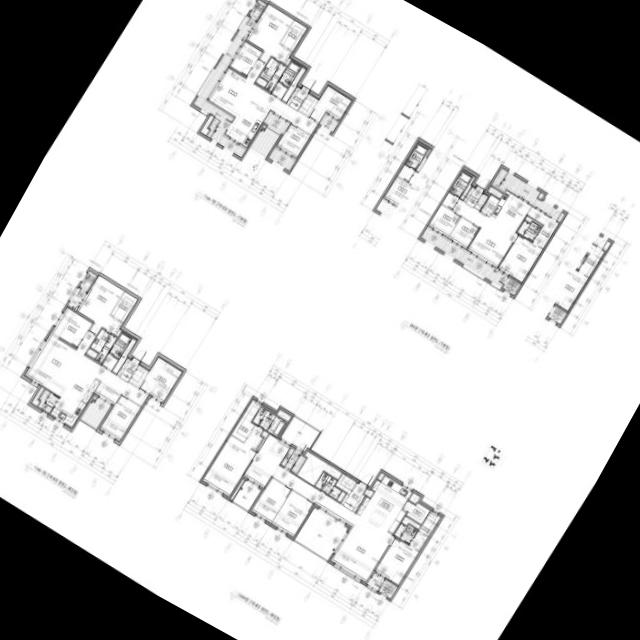background: (0, 0, 640, 640)
space_balconi: (193, 17, 255, 158), (421, 228, 508, 288), (492, 168, 565, 221), (295, 508, 348, 560), (281, 417, 319, 452), (80, 399, 110, 429), (250, 128, 279, 158), (233, 481, 261, 511), (281, 448, 306, 474), (268, 148, 295, 171), (38, 389, 59, 413), (265, 114, 287, 134), (68, 288, 86, 310), (366, 574, 384, 591), (320, 116, 338, 133)
space_bedroom: (203, 426, 263, 497), (246, 4, 294, 64), (77, 276, 124, 336), (375, 532, 428, 585), (498, 235, 542, 283), (139, 357, 183, 403), (272, 491, 313, 537), (100, 395, 141, 441), (252, 478, 291, 523), (52, 308, 92, 348), (309, 86, 352, 123), (277, 124, 311, 159), (229, 42, 261, 77), (429, 205, 460, 237), (449, 218, 479, 249)
space_dressroom: (527, 207, 558, 250), (231, 400, 261, 442), (280, 21, 307, 52), (111, 292, 138, 323), (419, 512, 440, 537)
space_front: (341, 483, 366, 512), (287, 87, 309, 111), (117, 359, 138, 383), (463, 187, 482, 208)
space_kitchen: (357, 476, 412, 534), (50, 369, 100, 427), (225, 98, 269, 147), (490, 191, 531, 233)
space_living_room: (244, 435, 394, 582), (25, 332, 149, 407), (206, 59, 318, 136), (453, 200, 517, 268)
space_other: (297, 452, 342, 486), (112, 339, 137, 374), (282, 68, 306, 103), (403, 502, 430, 525), (94, 382, 121, 405), (335, 474, 356, 495), (299, 94, 318, 116), (129, 366, 148, 387), (481, 195, 499, 216), (460, 177, 475, 200), (230, 479, 244, 501), (200, 115, 214, 136), (442, 193, 459, 210), (101, 354, 118, 371), (30, 387, 44, 407), (271, 83, 287, 100), (257, 431, 269, 451), (474, 194, 488, 210), (402, 517, 420, 529), (525, 217, 542, 227), (277, 410, 291, 422), (488, 187, 502, 199), (409, 493, 420, 504), (256, 77, 267, 88), (337, 492, 346, 503), (364, 489, 374, 498), (285, 58, 291, 66), (116, 329, 122, 337), (378, 474, 384, 481), (262, 125, 266, 129), (93, 396, 96, 400)
space_outdoor_room: (378, 580, 398, 599), (79, 271, 97, 292), (502, 278, 521, 296), (249, 0, 266, 20)
space_toilet: (252, 407, 286, 437), (86, 329, 116, 363), (260, 58, 286, 92), (315, 473, 341, 500), (450, 172, 472, 198), (109, 333, 131, 359), (279, 62, 301, 87), (517, 221, 541, 242), (394, 524, 417, 545)
